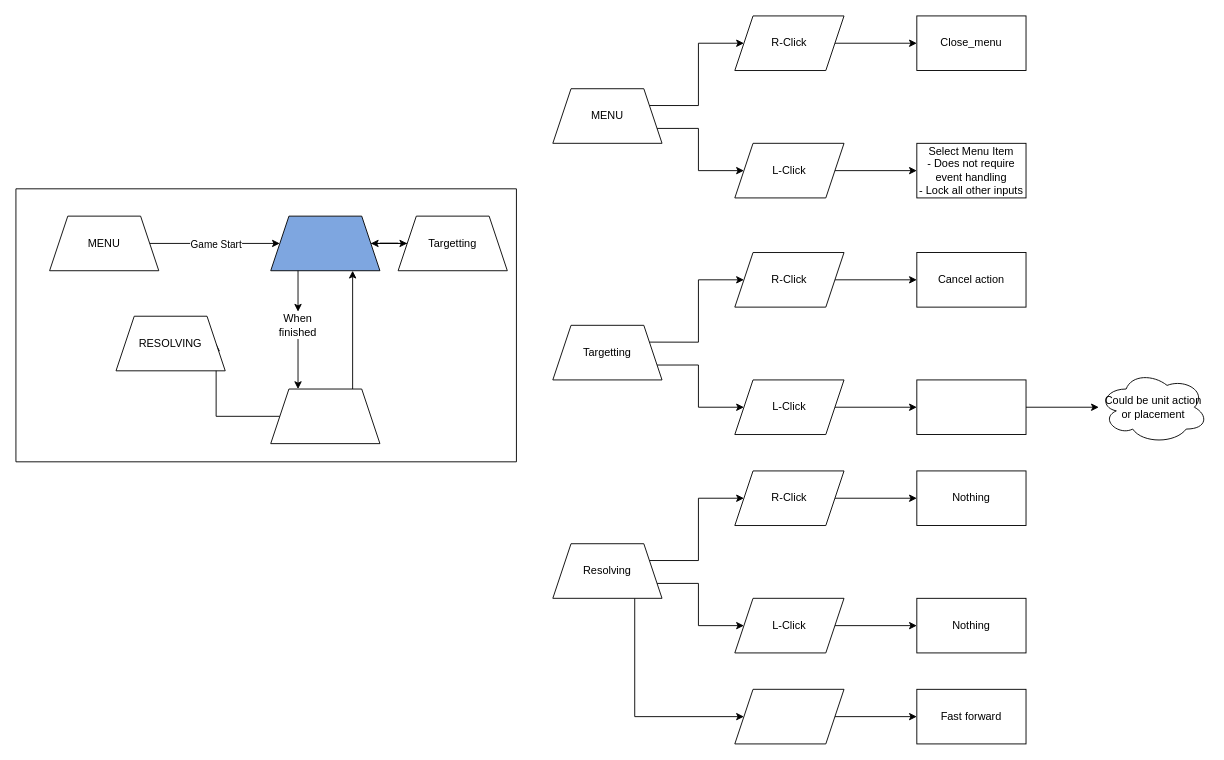
Image size: 1224x760. Some labels were removed from this diagram. Each missing label, with the box of its shape:
ENEMY_TURN: (270, 388, 380, 444)
Game States: (15, 188, 516, 462)
Get location of click and perform stored action: (916, 379, 1026, 435)
Keyboard Input: (734, 688, 844, 744)
PLAYER_TURN: (270, 215, 380, 271)
